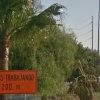Tree: (21, 4, 79, 82)
